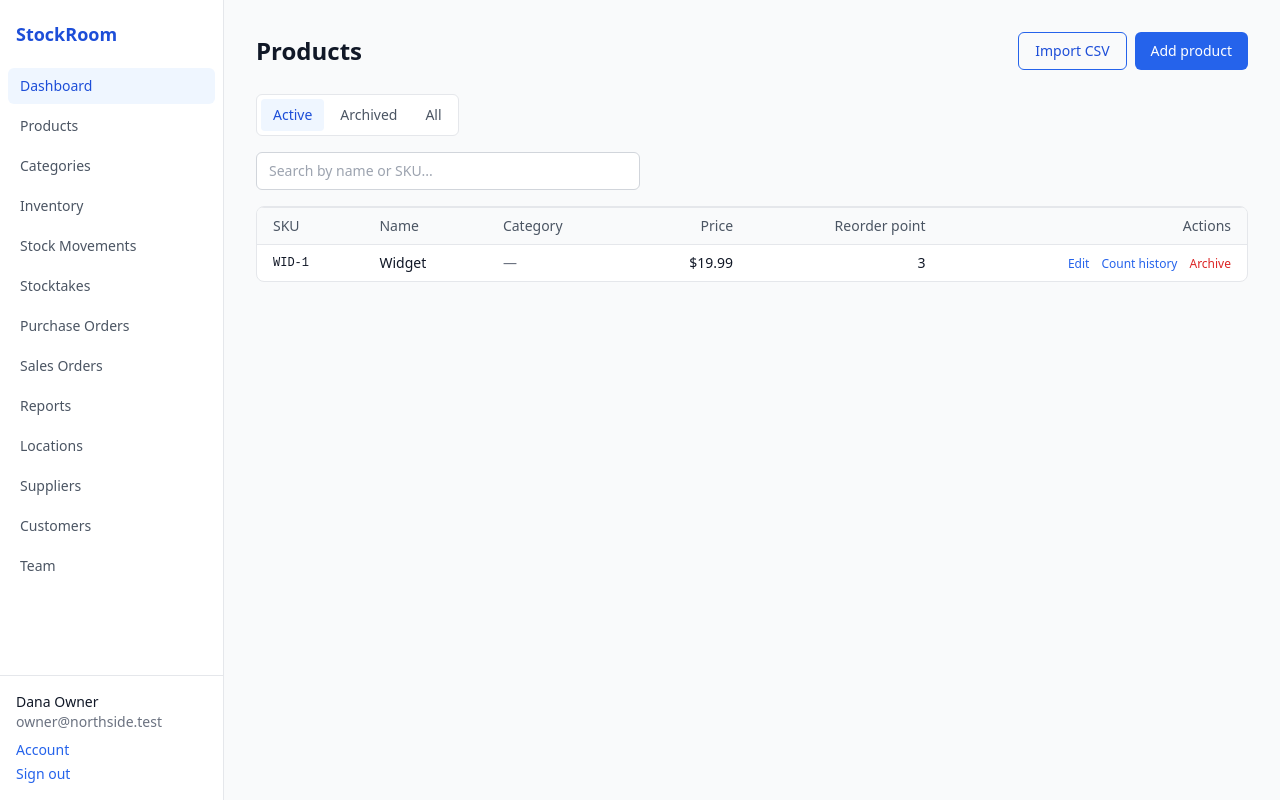
Scenario: ProductsPage edit › saves changes with PATCH and refreshes the list
Expected: the text "Widget" is shown, [364, 244, 487, 281]
Click the button "Edit" at (1079, 264), box [1068, 256, 1089, 272]
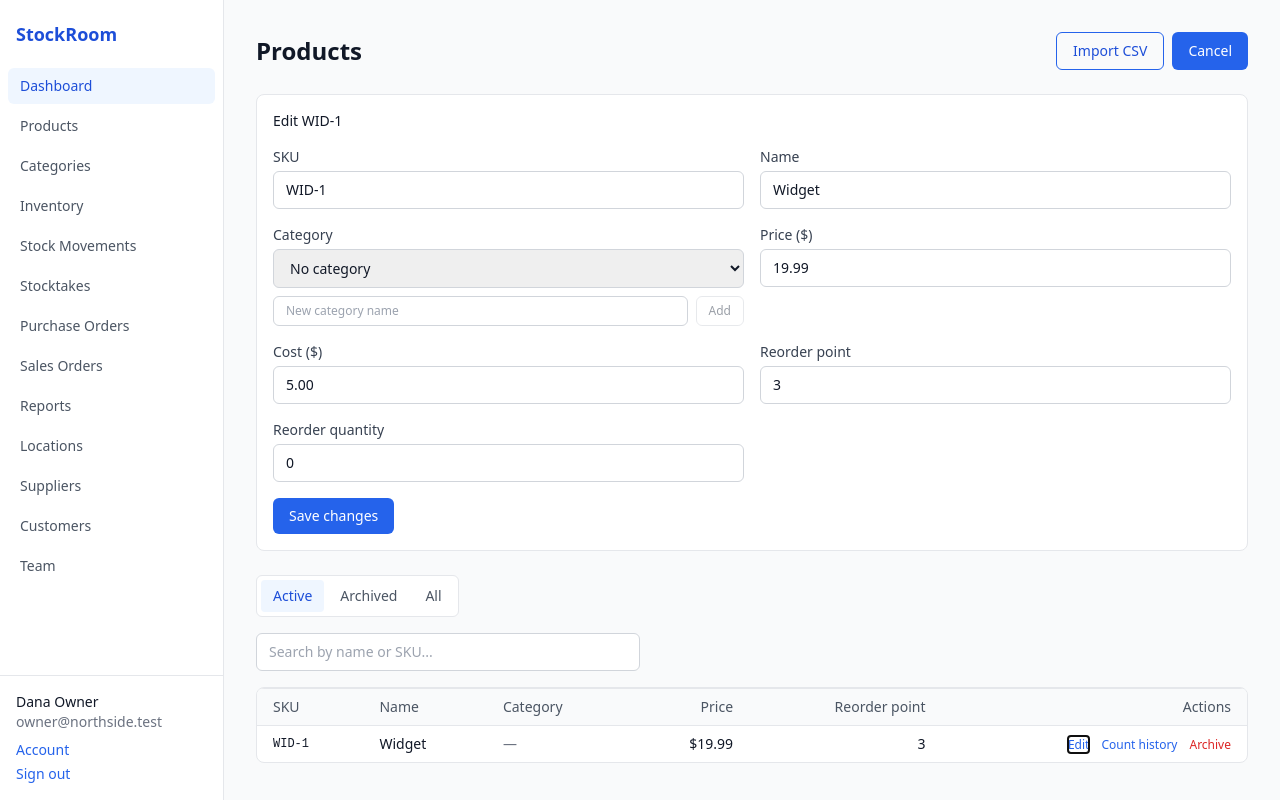
Replace the text in the field labelled "Name" with "Widget Deluxe" at (996, 190), box [760, 171, 1231, 209]
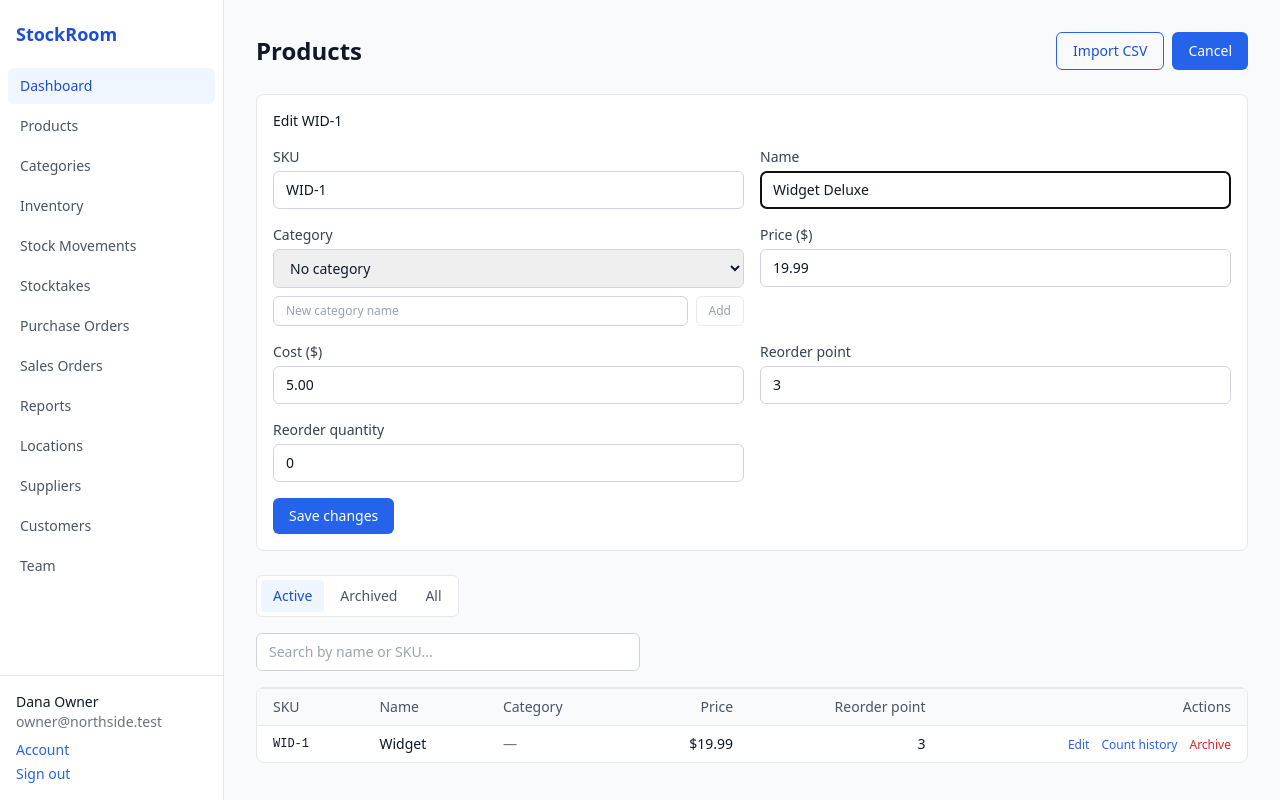
Click the button "Save changes" at (334, 516), box [273, 498, 394, 534]
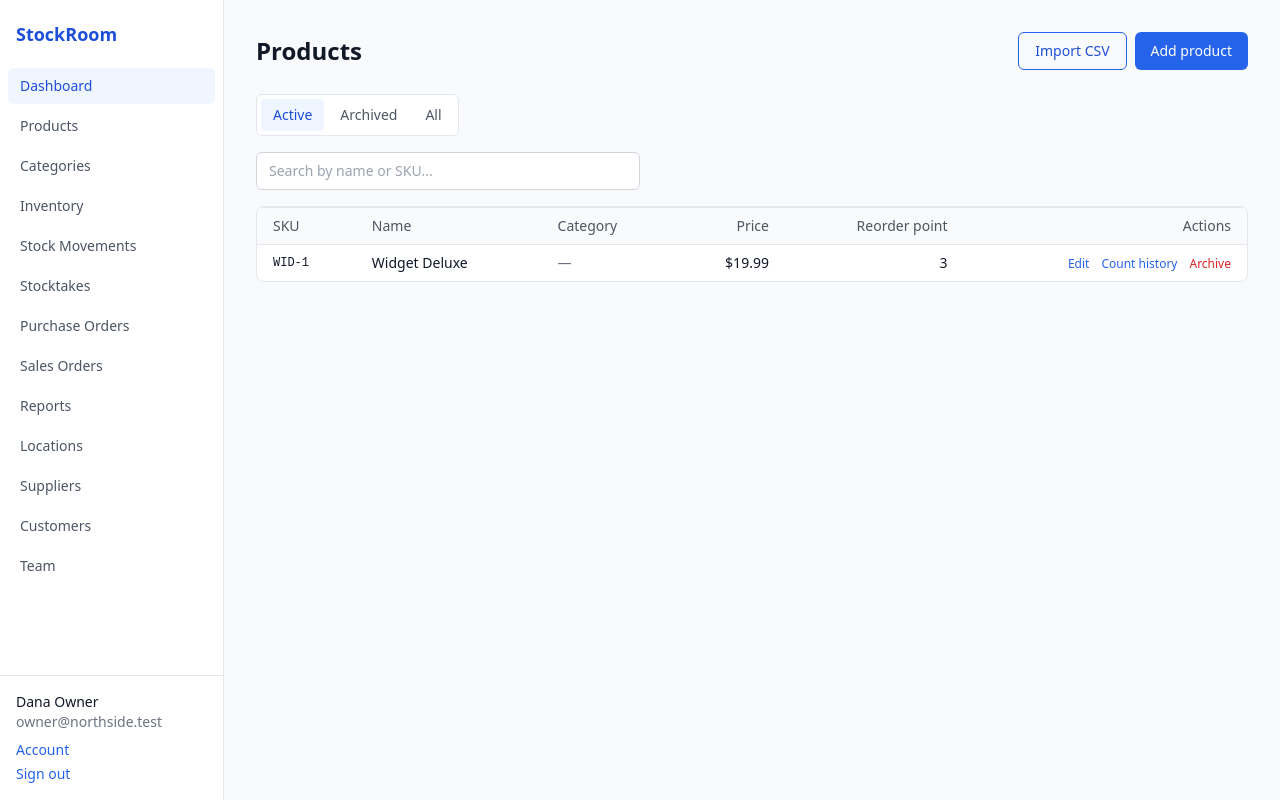
Expected: the text "Widget Deluxe" is shown, [356, 244, 542, 281]
